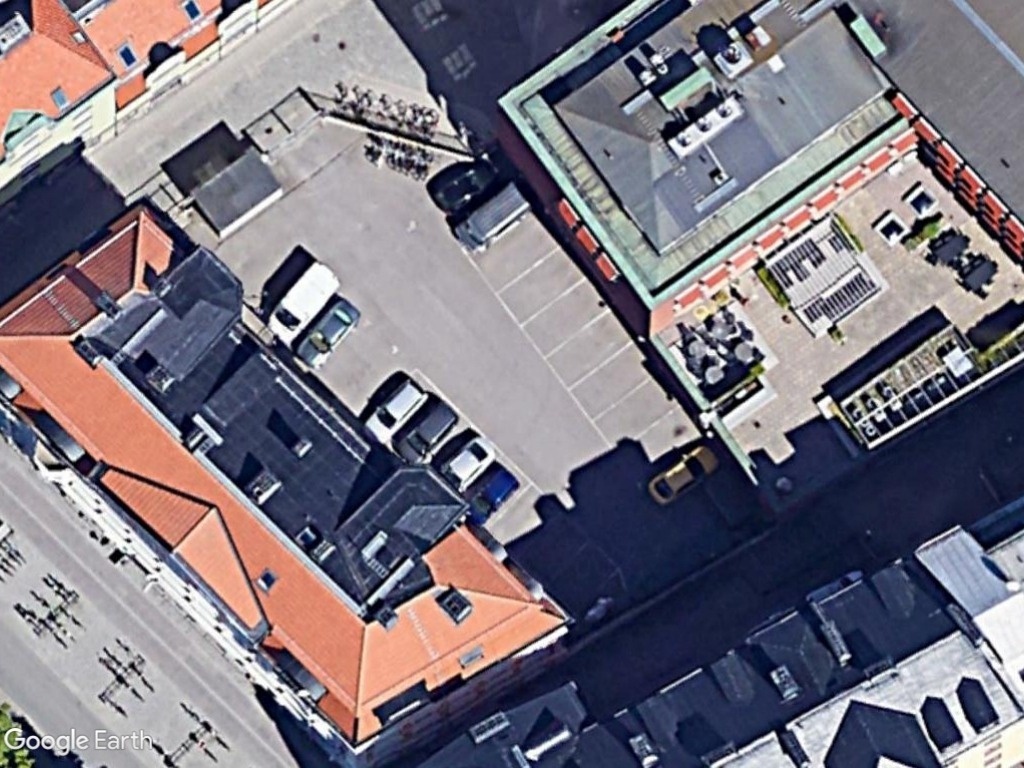car: (636, 439, 727, 511), (292, 293, 364, 372), (391, 394, 463, 467), (359, 375, 430, 448), (458, 465, 523, 527), (428, 435, 494, 491)
van: (259, 252, 341, 351)
